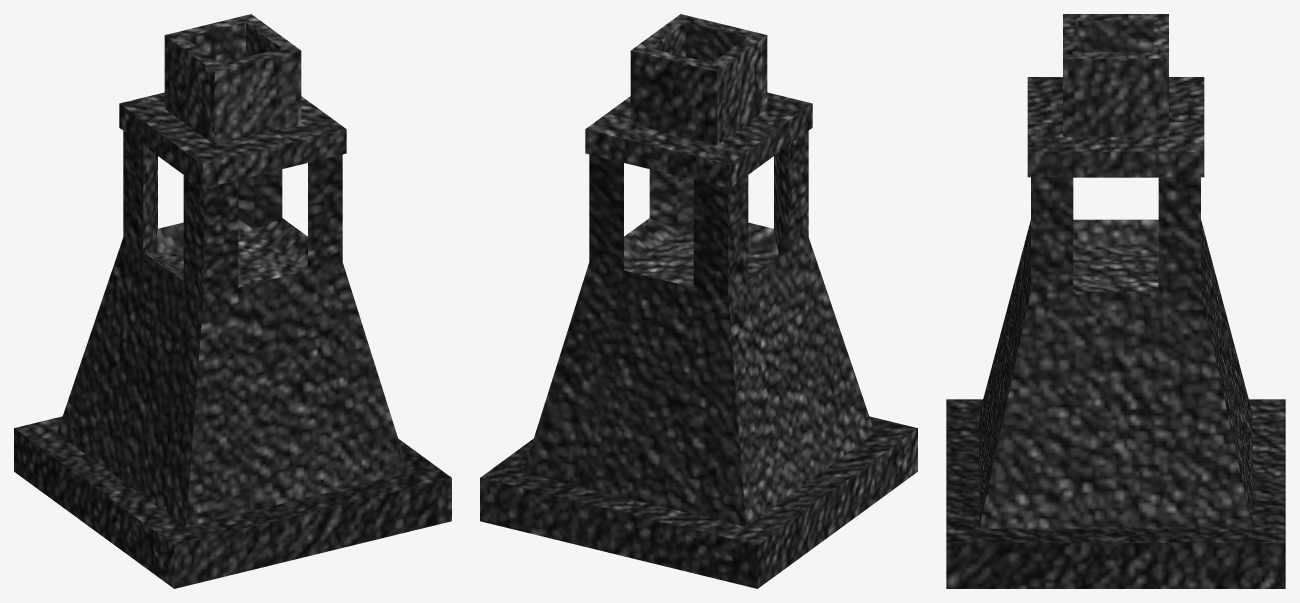
File: press.obj
3 renders of one model, left to right at view 1: azimuth 30°, elevation 25°; view 2: azimuth 150°, elevation 25°; view 3: azimuth 270°, elevation 25°, orthographic. The views are drawn at different scales.
Visible parts, largest first — view 1: stand_Cube.002; view 2: stand_Cube.002; view 3: stand_Cube.002.
Boxes of the visible parts, left/top/right/bottom form: stand_Cube.002: left=14, top=14, right=451, bottom=588; stand_Cube.002: left=480, top=14, right=917, bottom=588; stand_Cube.002: left=946, top=14, right=1285, bottom=588.
Size of the model in its own units: 1 by 1.56 by 1.
